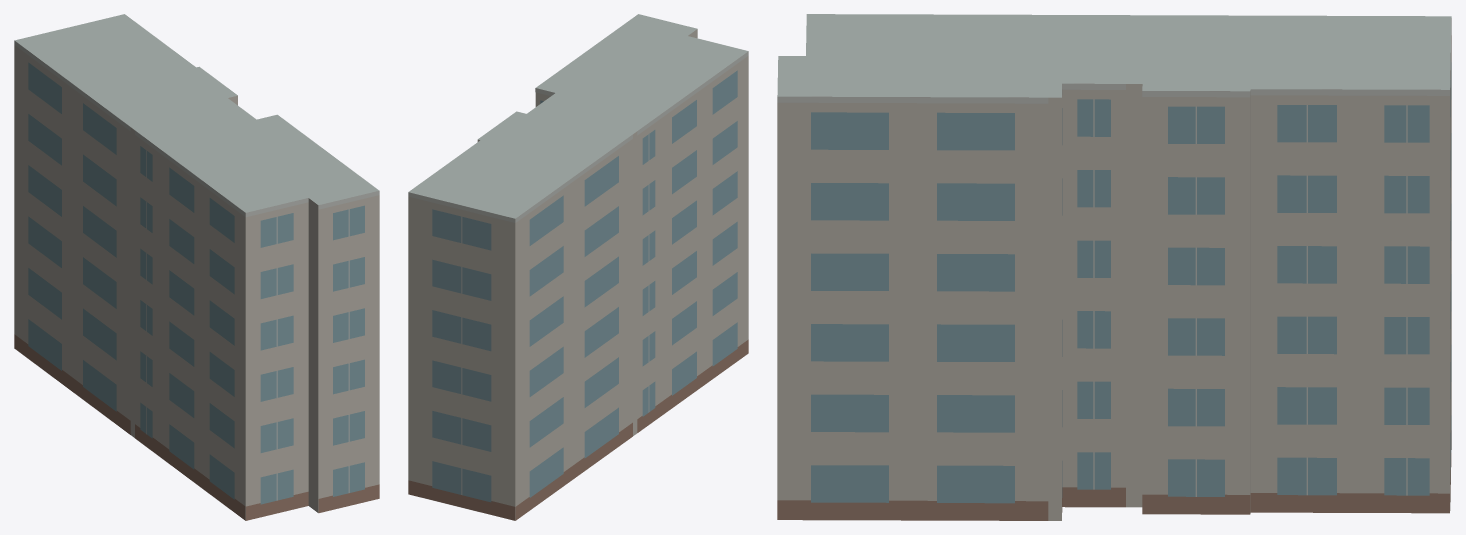
File: survey-upis-32562000.glb
3 views of the same model, side by side, from view 1: azimuth 30°, elevation 25°; view 2: azimuth 150°, elevation 25°; view 3: azimuth 270°, elevation 25° (orthographic). The views are drawn at different scales.
Visible parts, largest first — view 1: survey-upis-32562000.tmp; view 2: survey-upis-32562000.tmp; view 3: survey-upis-32562000.tmp.
Boxes of the visible parts, x1,y1,x2,y2 form: survey-upis-32562000.tmp: (14,14,379,520); survey-upis-32562000.tmp: (408,14,748,520); survey-upis-32562000.tmp: (777,14,1451,520).
Size of the model in its own units: 7.2 by 17 by 24.54.
